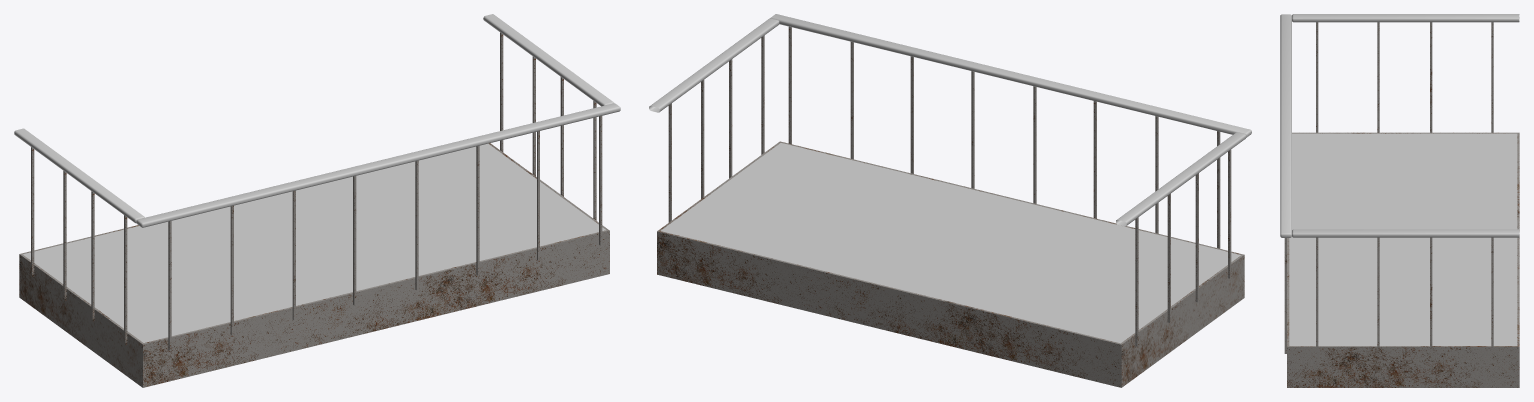
Rendered from Stairs02.FBX.
3 views of the same model, side by side, from view 1: azimuth 30°, elevation 25°; view 2: azimuth 150°, elevation 25°; view 3: azimuth 270°, elevation 25° (orthographic). The views are drawn at different scales.
Parts seen in each view (by area): view 1: Stairs2; view 2: Stairs2; view 3: Stairs2.
Boxes of the visible parts, bbox=[...] form: Stairs2: bbox=[14, 14, 620, 387]; Stairs2: bbox=[649, 14, 1251, 387]; Stairs2: bbox=[1280, 14, 1519, 387].
Bounding box in the file's own units: 312 × 104 × 143.
